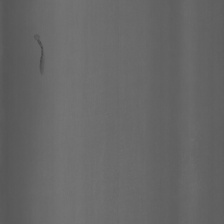water_spot: (33, 30, 49, 85)
